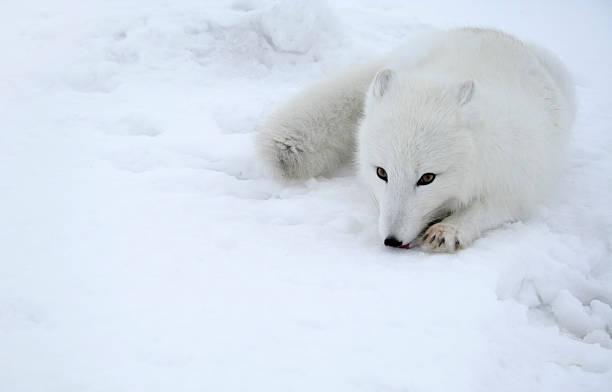arcticfox: (360, 114, 478, 268)
